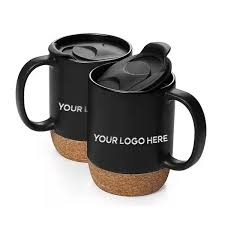mug: (72, 53, 207, 206)
